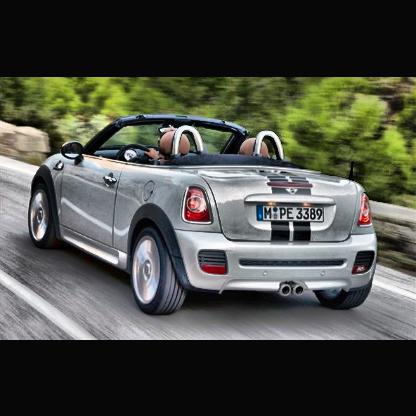MINI Cooper Roadster Convertible 2012: (29, 113, 379, 317)
